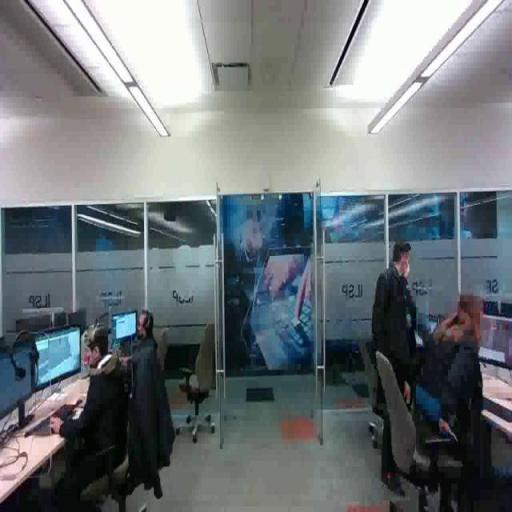person: (409, 291, 495, 478), (52, 322, 130, 505), (379, 240, 424, 496), (116, 309, 168, 406)
